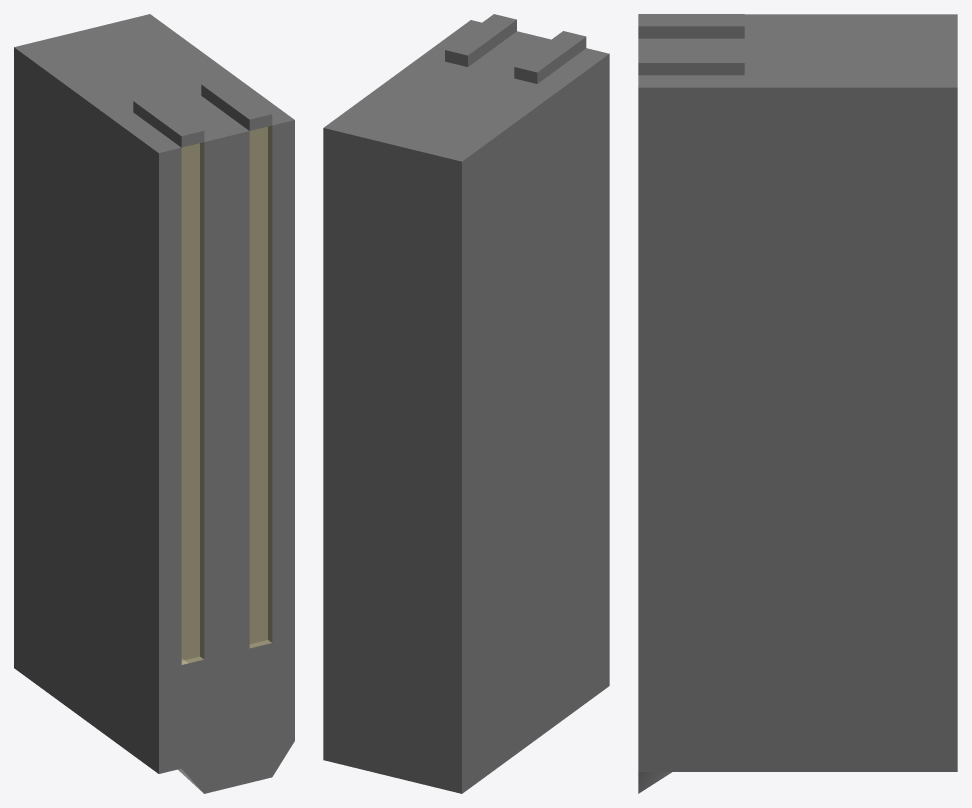
Rendered from Rectangle Building.fbx.
3 views of the same model, side by side, from view 1: azimuth 30°, elevation 25°; view 2: azimuth 150°, elevation 25°; view 3: azimuth 270°, elevation 25° (orthographic). The views are drawn at different scales.
Parts seen in each view (by area): view 1: Rectangle_Building; view 2: Rectangle_Building; view 3: Rectangle_Building.
Part boxes in pixels (x1,y1,x2,y2): Rectangle_Building: (14,14,294,793); Rectangle_Building: (323,14,609,793); Rectangle_Building: (638,14,957,793).
Bounding box in the file's own units: 25.16 × 117 × 46.35.
